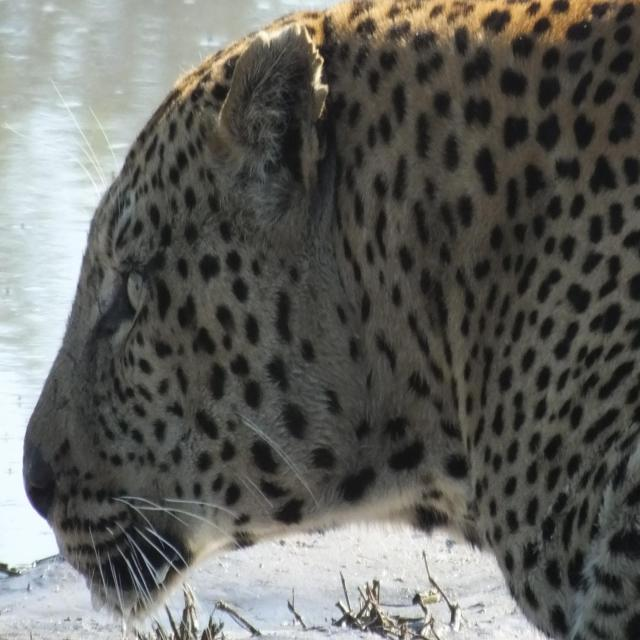Leopard: (38, 21, 640, 634)
